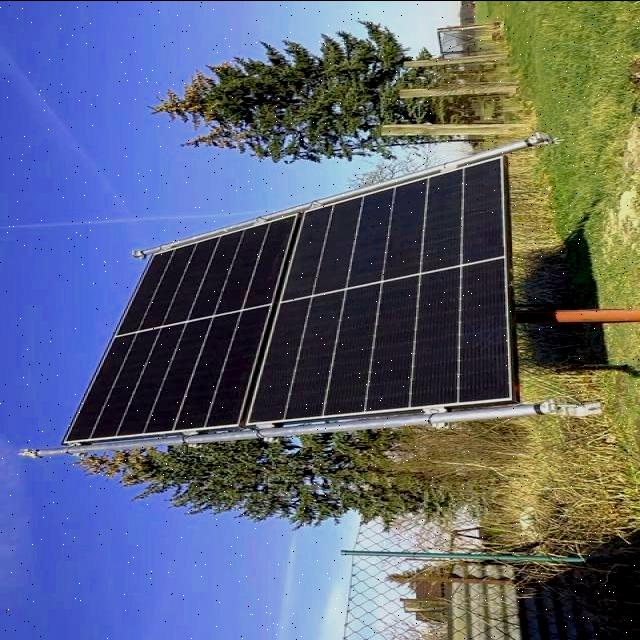Normal Solar Panel: (64, 154, 512, 442)
